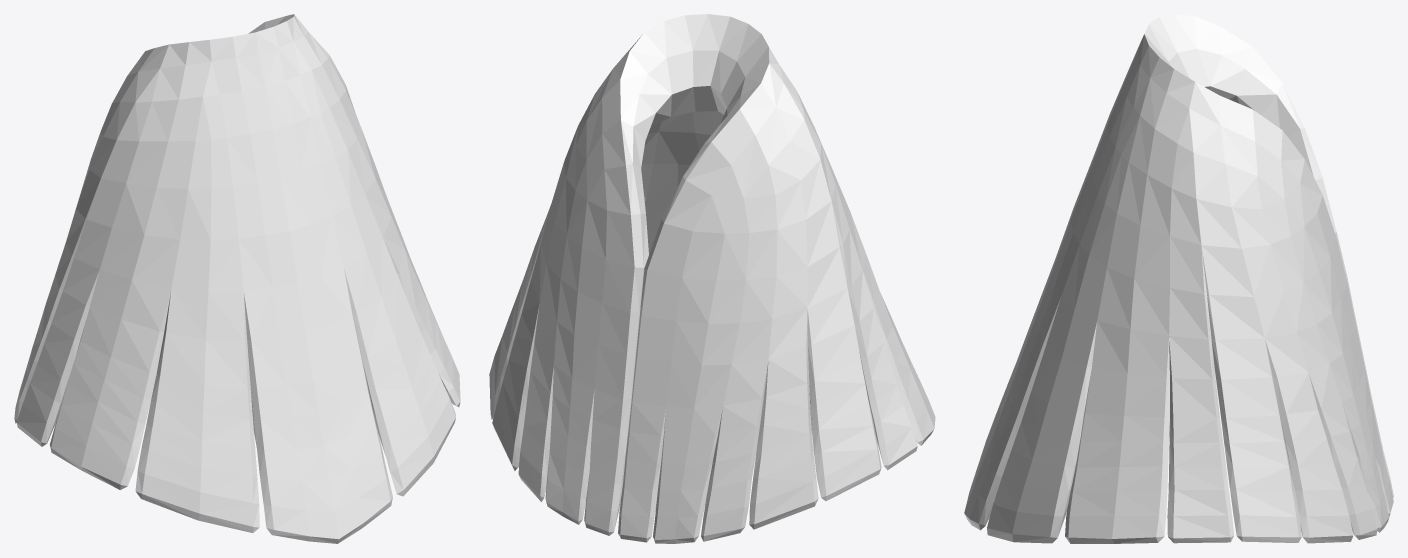
The model's file is CharSkyKid_Wing_ClassicOne_Default.glb.
3 renders of one model, left to right at view 1: azimuth 30°, elevation 25°; view 2: azimuth 150°, elevation 25°; view 3: azimuth 270°, elevation 25°, orthographic. The views are drawn at different scales.
Parts seen in each view (by area): view 1: CharSkyKid_Wing_ClassicOne_Default; view 2: CharSkyKid_Wing_ClassicOne_Default; view 3: CharSkyKid_Wing_ClassicOne_Default.
Part boxes in pixels (box(x1,y1,x2,y2)): CharSkyKid_Wing_ClassicOne_Default: box(14, 14, 460, 543); CharSkyKid_Wing_ClassicOne_Default: box(489, 14, 935, 543); CharSkyKid_Wing_ClassicOne_Default: box(964, 14, 1393, 543).
Bounding box in the file's own units: 6.47 × 6.93 × 5.56.
Materials: 1 (1 with a texture image).
